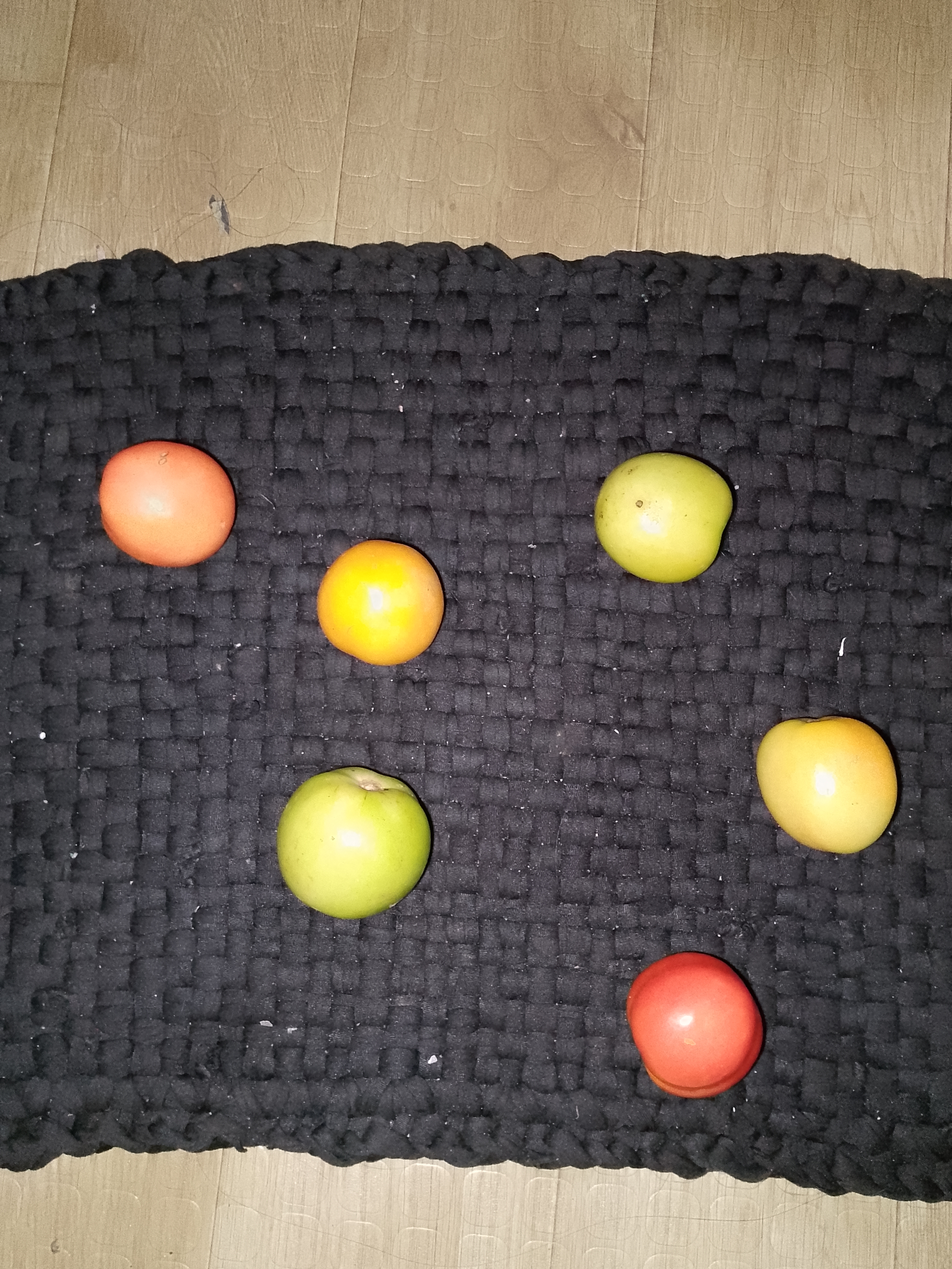Ripe: (587, 950, 831, 1137), (52, 400, 252, 594)
Unripe: (228, 721, 472, 958), (571, 402, 787, 612), (729, 680, 952, 880), (267, 501, 480, 693)
